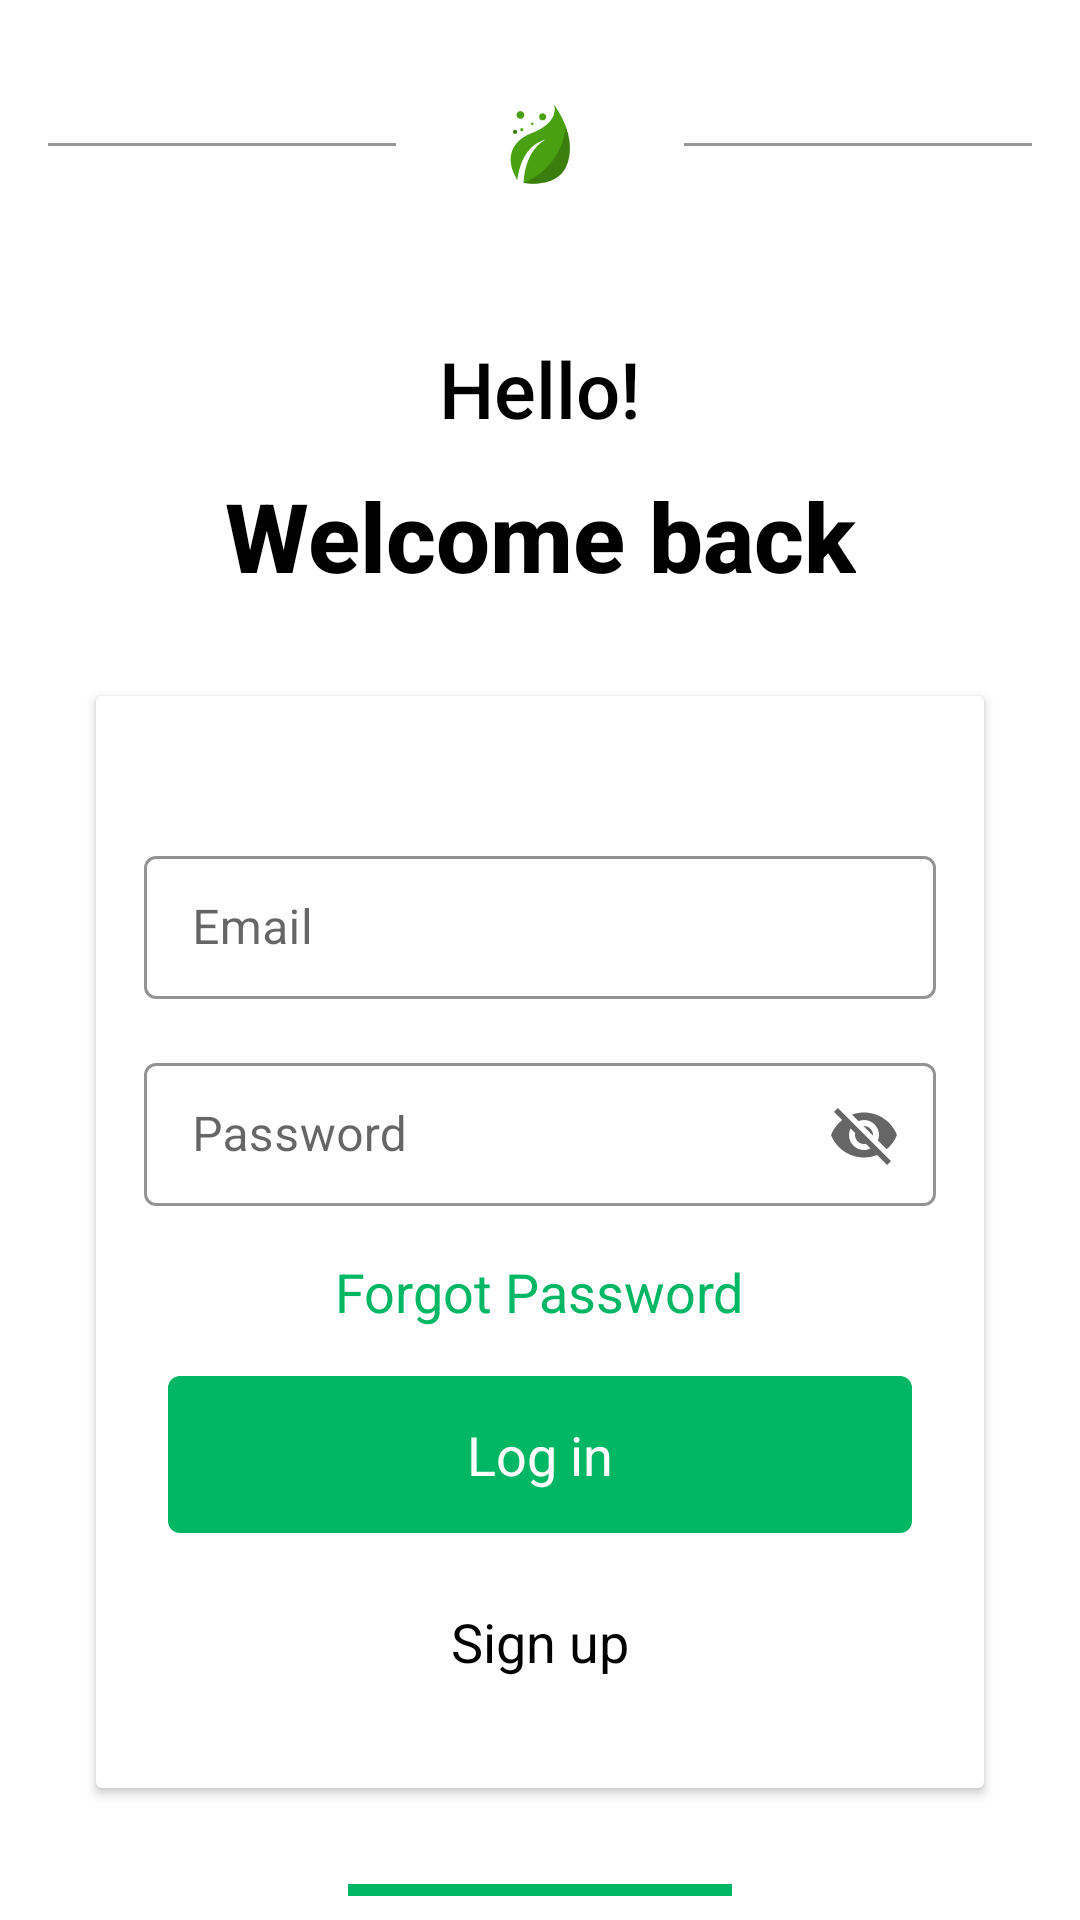

Screen size 1080*1920. Icon name, then its center in pixels as point (x, y):
app: point (540, 144)
